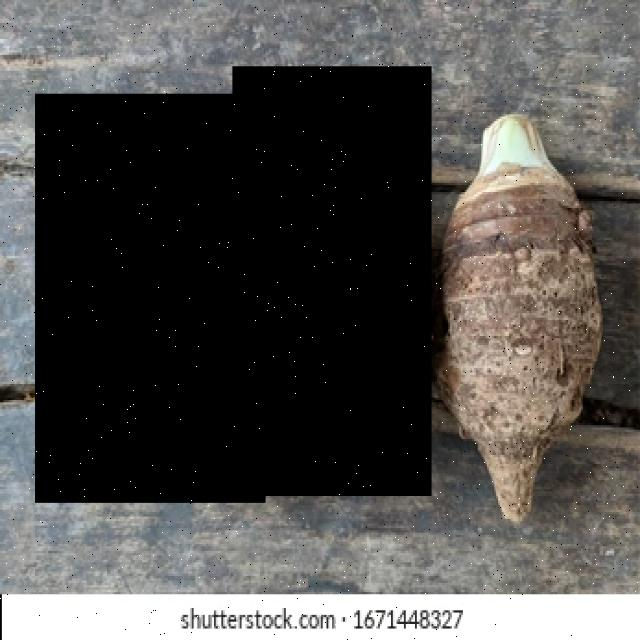Taro_Root: (36, 94, 267, 503), (233, 68, 432, 498)
